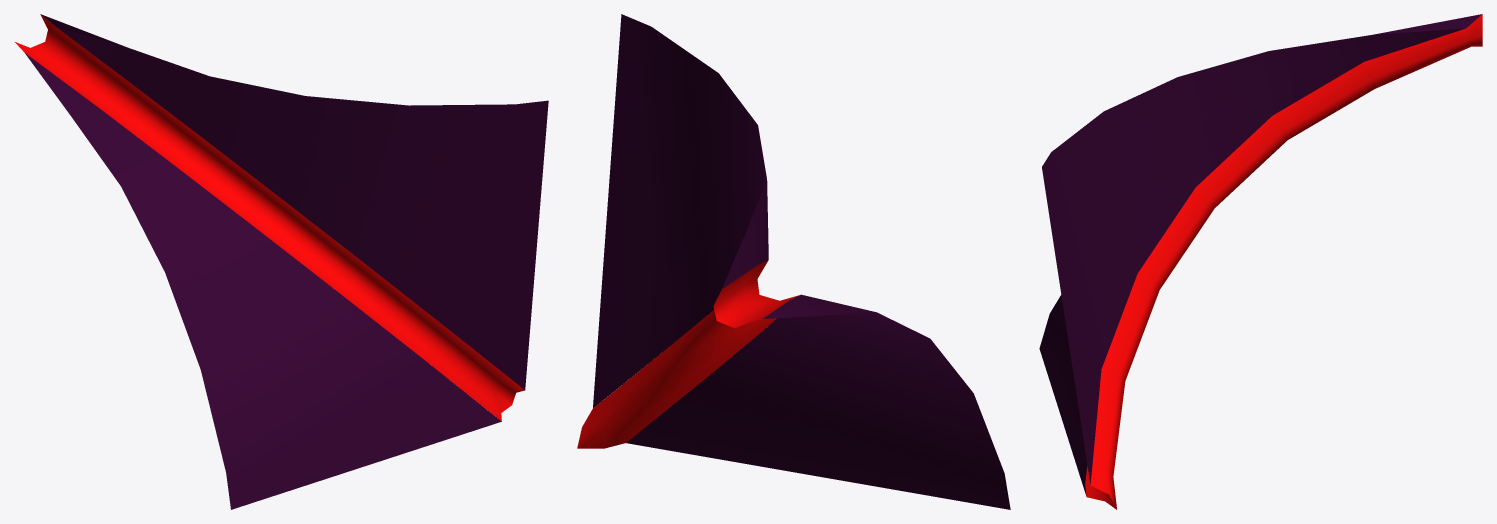
Rendered from Cath_arcVaultQuar_s.FBX.
3 renders of one model, left to right at view 1: azimuth 30°, elevation 25°; view 2: azimuth 150°, elevation 25°; view 3: azimuth 270°, elevation 25°, orthographic. The views are drawn at different scales.
Parts seen in each view (by area): view 1: Cath_arcVaultQuar_s; view 2: Cath_arcVaultQuar_s; view 3: Cath_arcVaultQuar_s.
Boxes of the visible parts, x1,y1,x2,y2 form: Cath_arcVaultQuar_s: (15, 14, 548, 509); Cath_arcVaultQuar_s: (577, 14, 1010, 509); Cath_arcVaultQuar_s: (1039, 14, 1482, 509).
Bounding box in the file's own units: 178 × 205 × 177.
